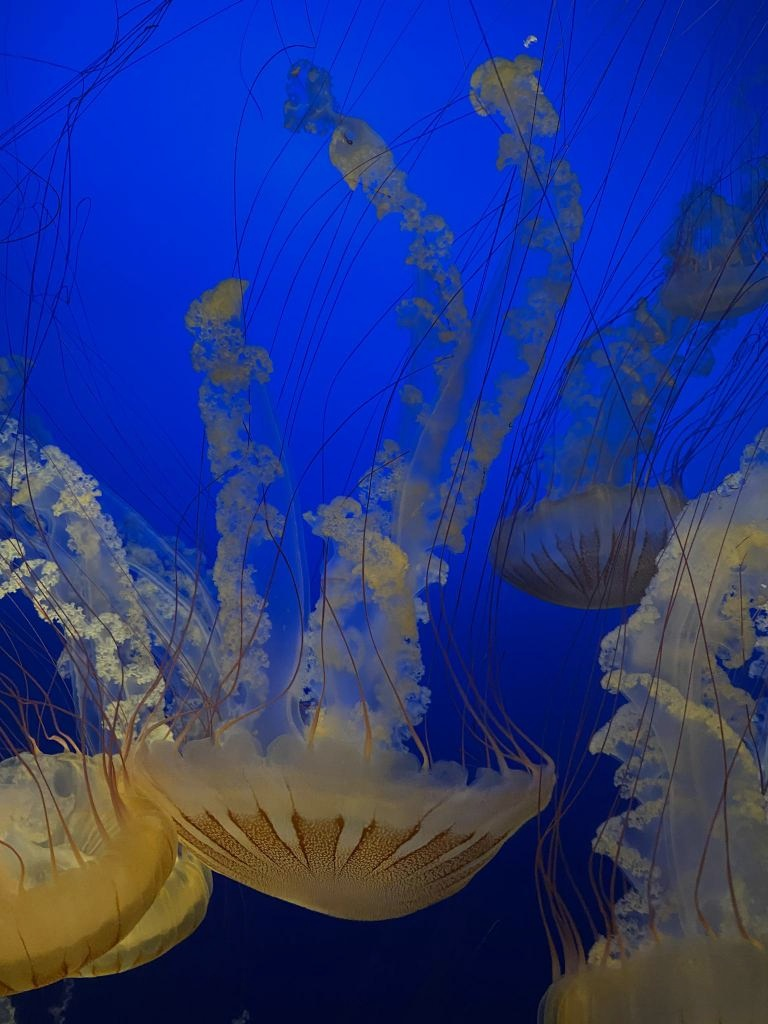jellyfish: (126, 738, 556, 922), (0, 752, 176, 994), (10, 844, 212, 978), (490, 486, 698, 608), (541, 933, 767, 1023), (665, 264, 767, 320)
